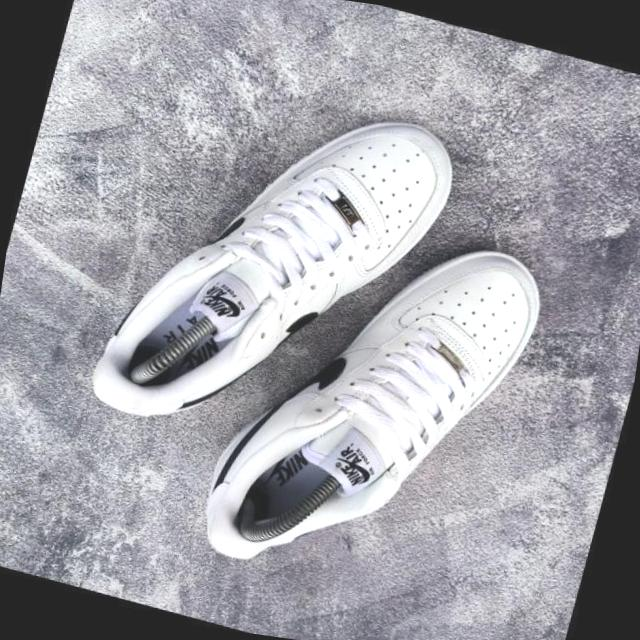nike_fake_airforce: (78, 46, 474, 481), (183, 184, 558, 616)
